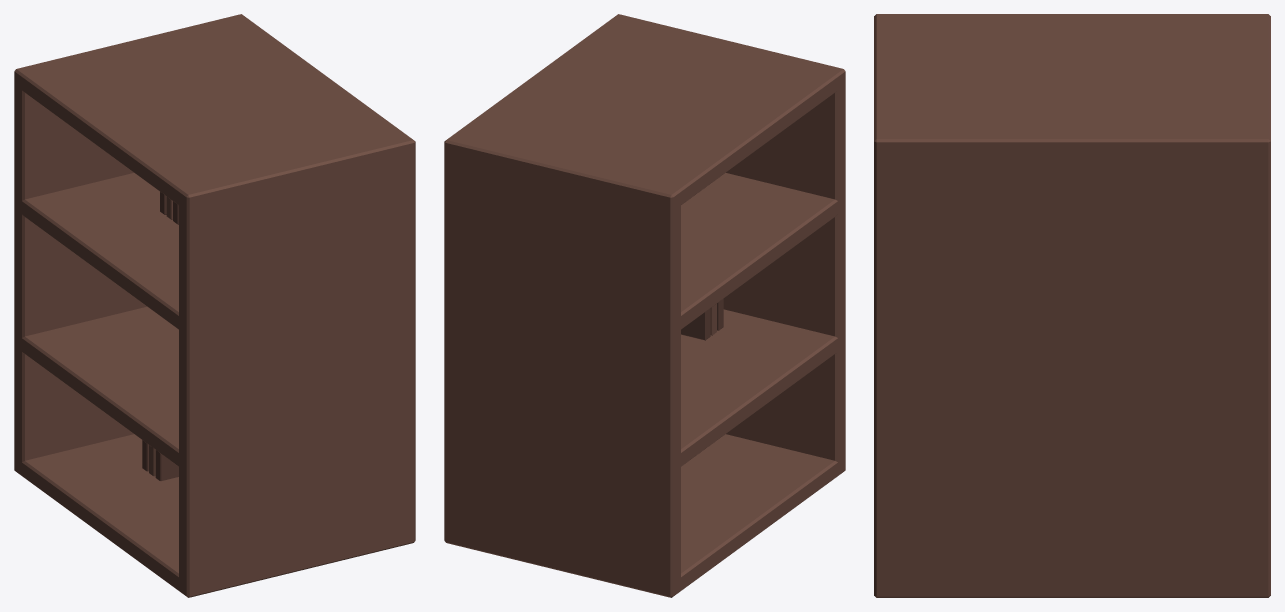
Rendered from etagere_couloir.glb.
The picture shows the model from 3 angles, left to right: view 1: azimuth 30°, elevation 25°; view 2: azimuth 150°, elevation 25°; view 3: azimuth 270°, elevation 25°; orthographic projection. The views are drawn at different scales.
Visible parts, largest first — view 1: etagere_couloir; view 2: etagere_couloir; view 3: etagere_couloir.
Part boxes in pixels (box(x1,y1,x2,y2)): etagere_couloir: box(14, 14, 415, 597); etagere_couloir: box(444, 14, 845, 597); etagere_couloir: box(874, 14, 1270, 597).
Bounding box in the file's own units: 1.1 × 1.85 × 1.45.
1 material, 1 textured.
